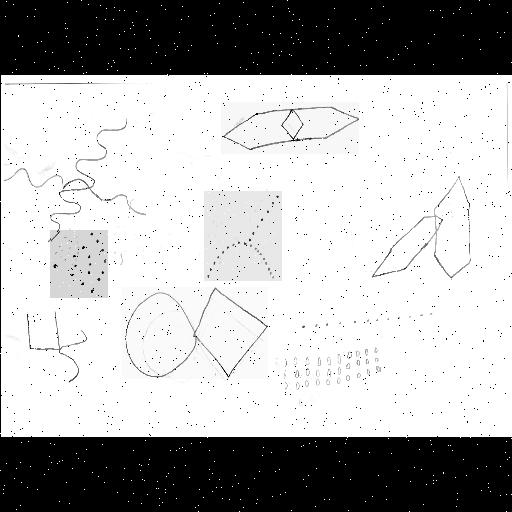shape-1: (122, 287, 268, 379)
shape-2: (301, 309, 435, 333)
shape-3: (284, 344, 380, 390)
shape-4: (50, 230, 108, 298)
shape-5: (24, 306, 88, 384)
shape-6: (204, 191, 282, 281)
shape-7: (2, 116, 148, 244)
shape-8: (372, 174, 470, 280)
shape-9: (221, 102, 359, 154)
